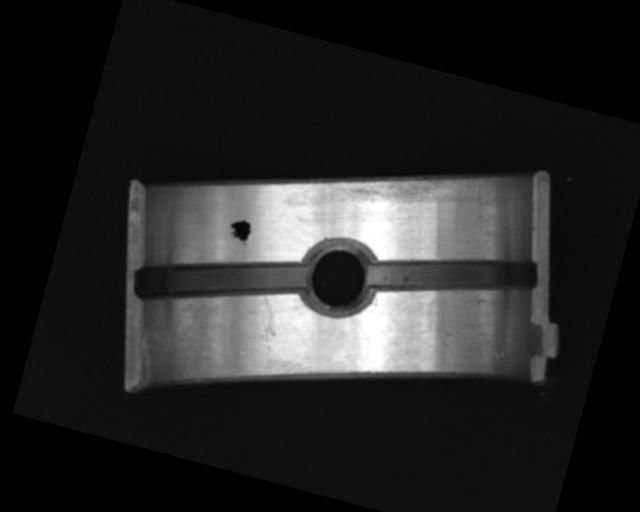blot: (225, 216, 254, 247)
bruise: (435, 327, 456, 340), (492, 348, 508, 361)
gap: (132, 223, 310, 336), (364, 221, 541, 327)
hole: (295, 231, 385, 322)
nick: (251, 295, 286, 350)
scratch: (329, 141, 489, 233)
